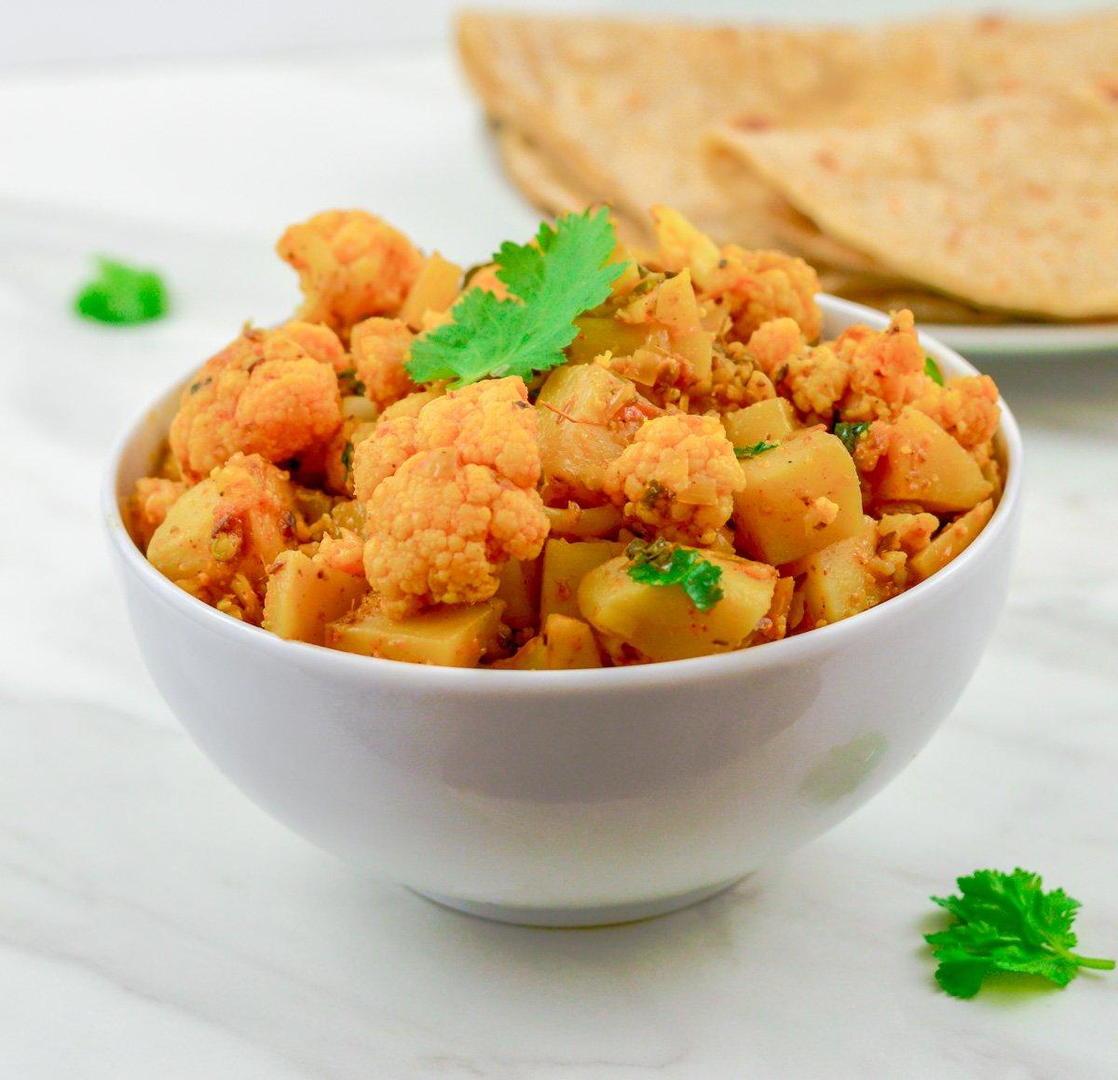roti phulka: (200, 209, 988, 704), (445, 0, 1118, 309)
